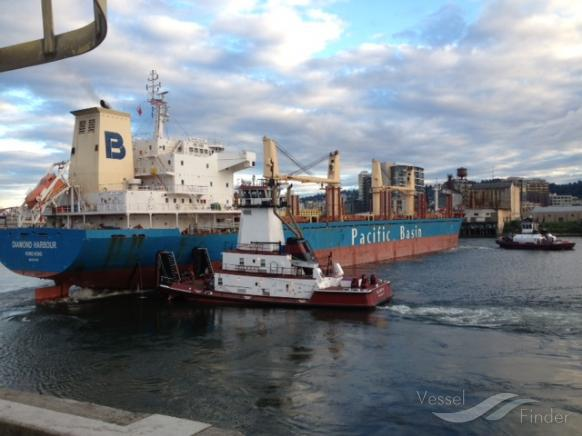OCR: (336, 222, 435, 249), (3, 238, 66, 271)
